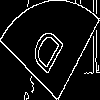D: (24, 25, 66, 84)
